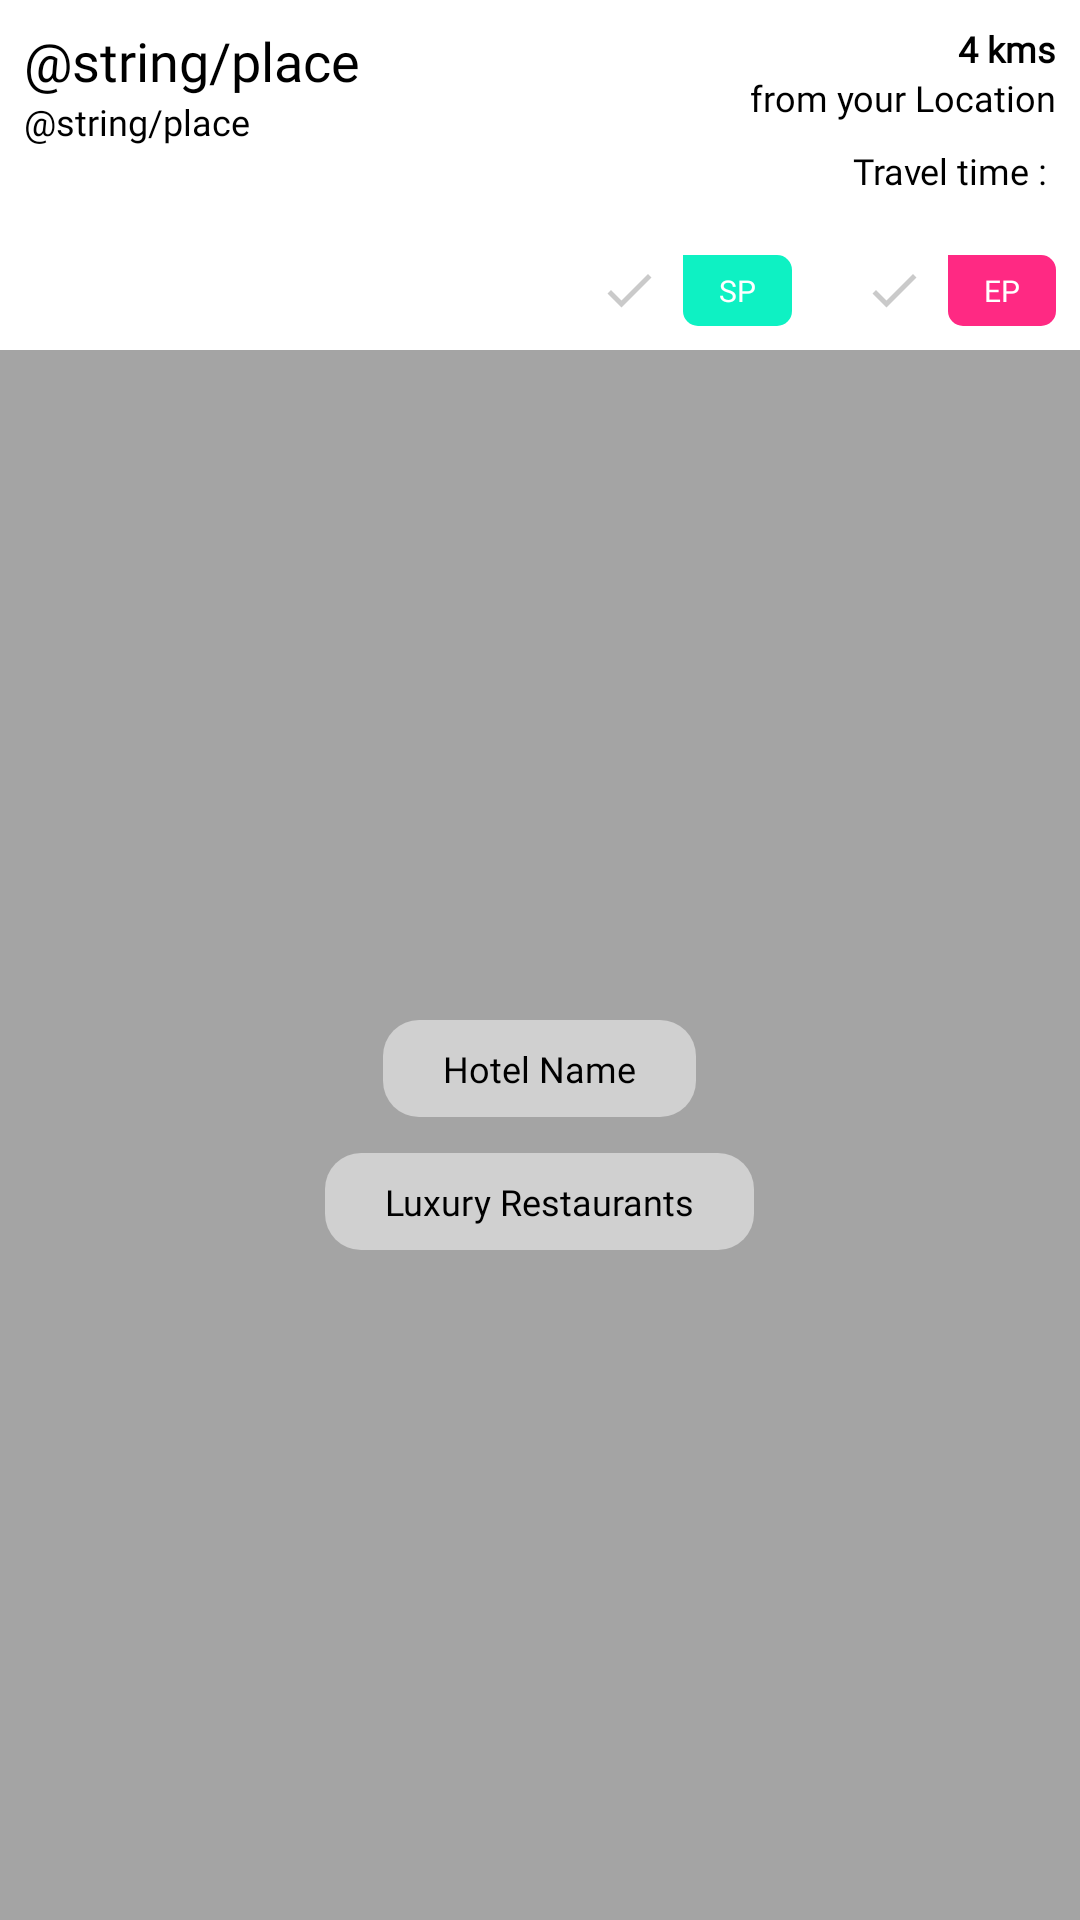

Screen size 1080*1920. Icon name, then its box in pixels as {"x1": x1, "y1": y1, "x2": x2, "y2": y2}:
done: {"x1": 608, "y1": 274, "x2": 651, "y2": 307}, {"x1": 873, "y1": 274, "x2": 916, "y2": 307}
